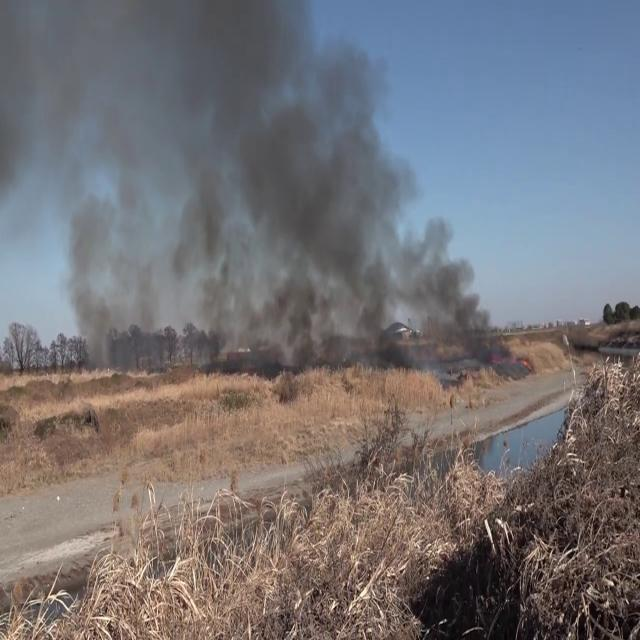Smoke: (1, 0, 502, 366)
